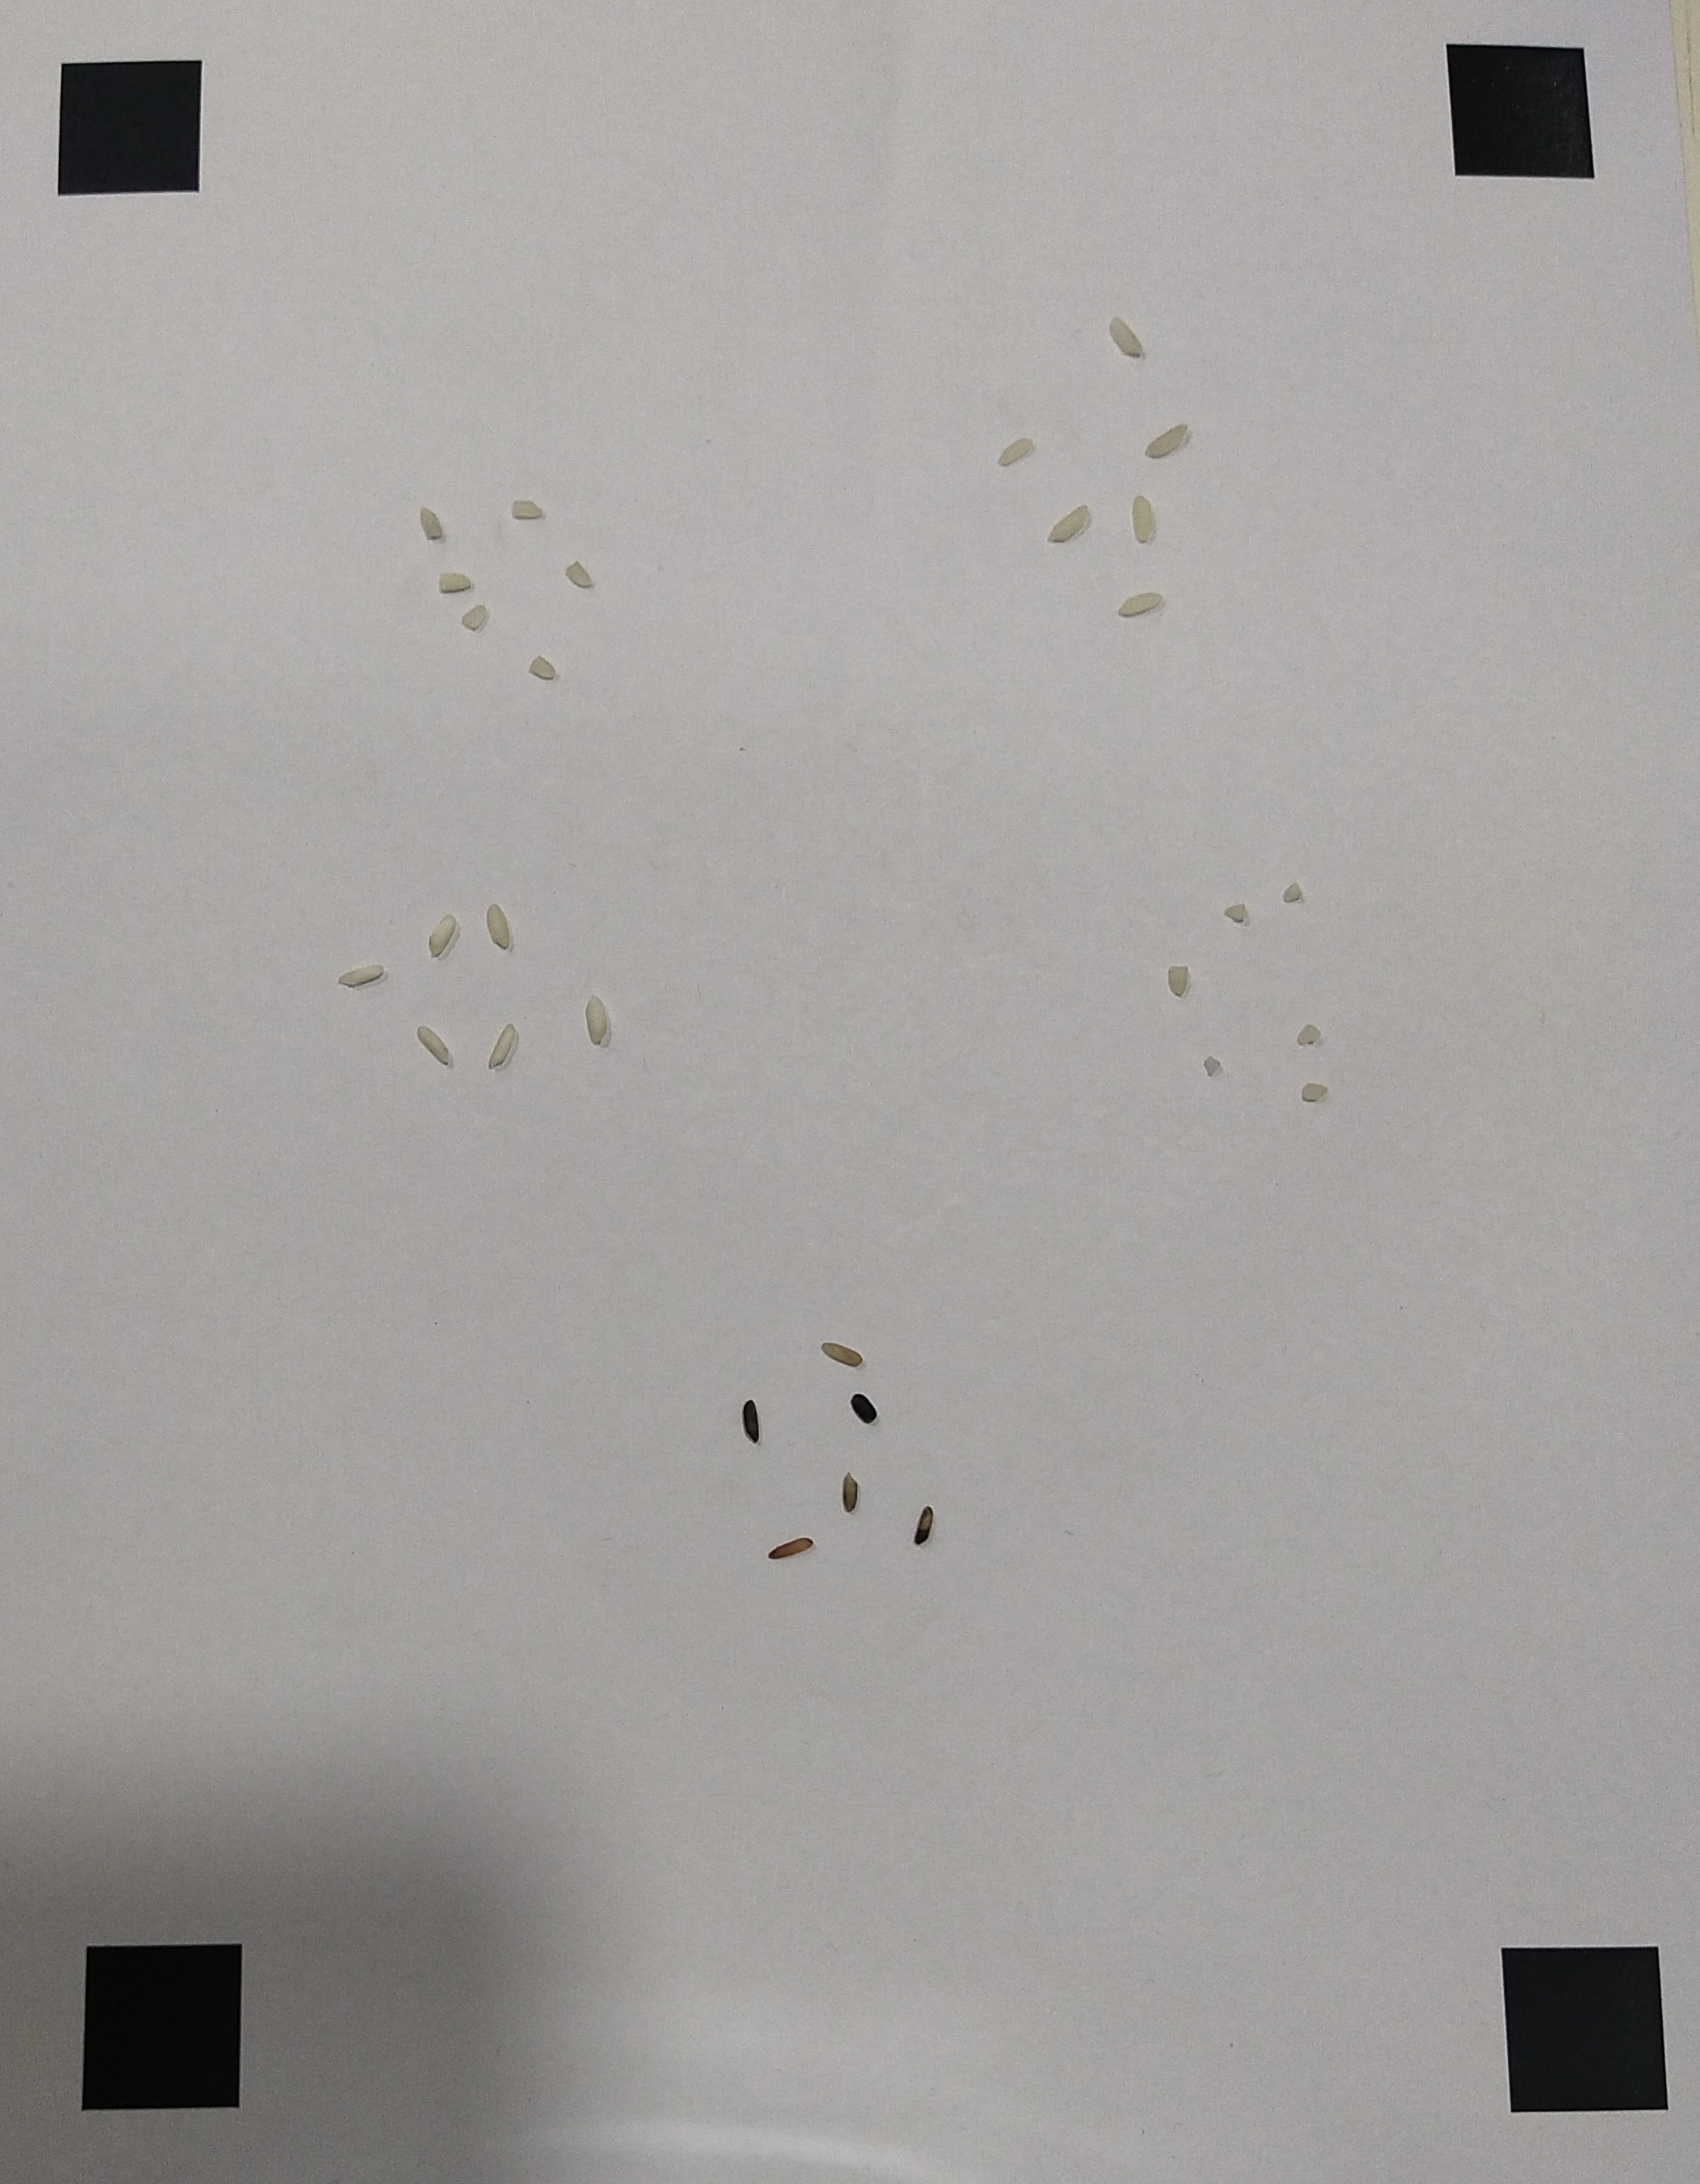broken: (1168, 963, 1189, 998), (1282, 879, 1306, 906), (1225, 902, 1248, 927), (1299, 1081, 1326, 1101), (1298, 1023, 1319, 1046), (1202, 1053, 1221, 1076)
chalky: (417, 1026, 452, 1067), (425, 913, 456, 957), (489, 1019, 516, 1069), (486, 902, 514, 948), (585, 993, 608, 1044), (339, 964, 383, 984)
damage: (418, 507, 447, 546), (511, 500, 551, 525), (438, 564, 473, 592), (526, 654, 562, 679), (567, 557, 592, 590), (461, 604, 489, 628)
discolor: (821, 1338, 865, 1369), (768, 1537, 814, 1560), (913, 1503, 934, 1551), (849, 1390, 877, 1425), (741, 1399, 762, 1443), (842, 1471, 858, 1514)
good: (1044, 503, 1092, 546), (1106, 316, 1149, 358), (1145, 422, 1189, 459), (1131, 491, 1158, 548), (998, 436, 1033, 470), (1117, 592, 1161, 615)
